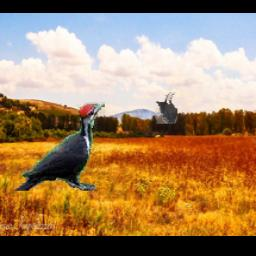Crow: (156, 92, 179, 124)
Woodpecker: (12, 102, 105, 191)
